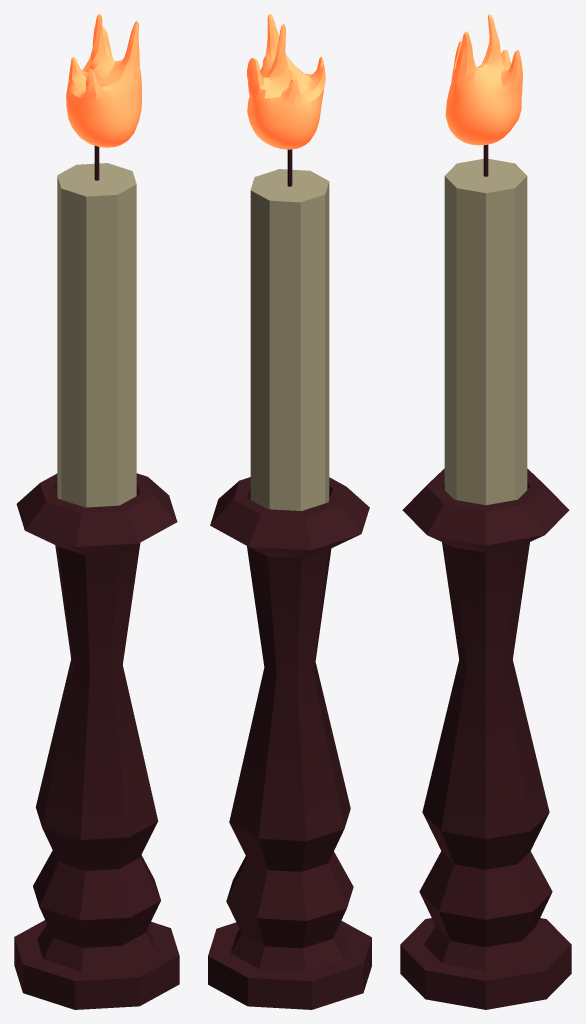
File: Candelabro 4.fbx
The picture shows the model from 3 angles, left to right: view 1: azimuth 30°, elevation 25°; view 2: azimuth 150°, elevation 25°; view 3: azimuth 270°, elevation 25°; orthographic projection.
Visible parts, largest first — view 1: Candelabro piccolo.004; view 2: Candelabro piccolo.004; view 3: Candelabro piccolo.004.
Boxes of the visible parts, x1,y1,x2,y2 form: Candelabro piccolo.004: [14, 14, 179, 1009]; Candelabro piccolo.004: [208, 14, 371, 1009]; Candelabro piccolo.004: [400, 14, 571, 1009].
Size of the model in its own units: 12.17 by 75.31 by 12.17.
